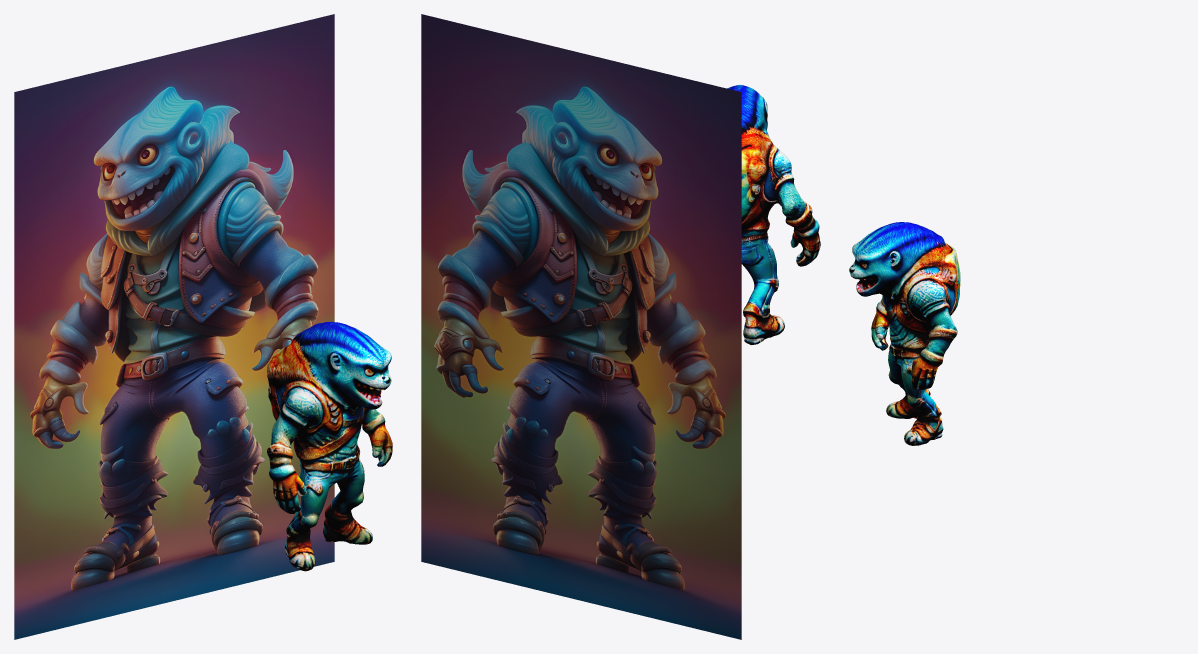
The model's file is character.glb.
The picture shows the model from 3 angles, left to right: view 1: azimuth 30°, elevation 25°; view 2: azimuth 150°, elevation 25°; view 3: azimuth 270°, elevation 25°; orthographic projection. The views are drawn at different scales.
Parts seen in each view (by area): view 1: web_upload_2, mesh.obj_0; view 2: web_upload_2, mesh.obj_0; view 3: mesh.obj_0.
Part boxes in pixels (x1,y1,x2,y2): web_upload_2: [14, 14, 334, 639]; mesh.obj_0: [267, 321, 392, 571]; web_upload_2: [421, 14, 741, 639]; mesh.obj_0: [727, 85, 820, 344]; mesh.obj_0: [849, 222, 960, 445].
Bounding box in the file's own units: 1.22 × 2 × 1.25.
2 materials, 2 textured.
